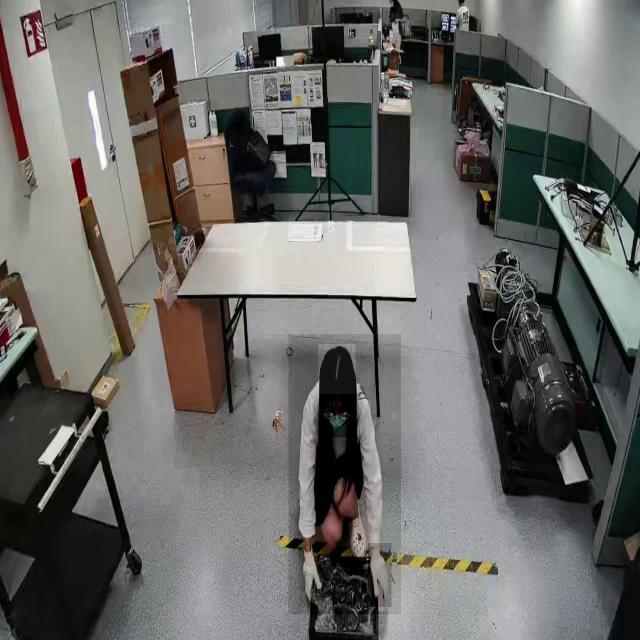gloves: (368, 543, 392, 608), (298, 544, 320, 609)
